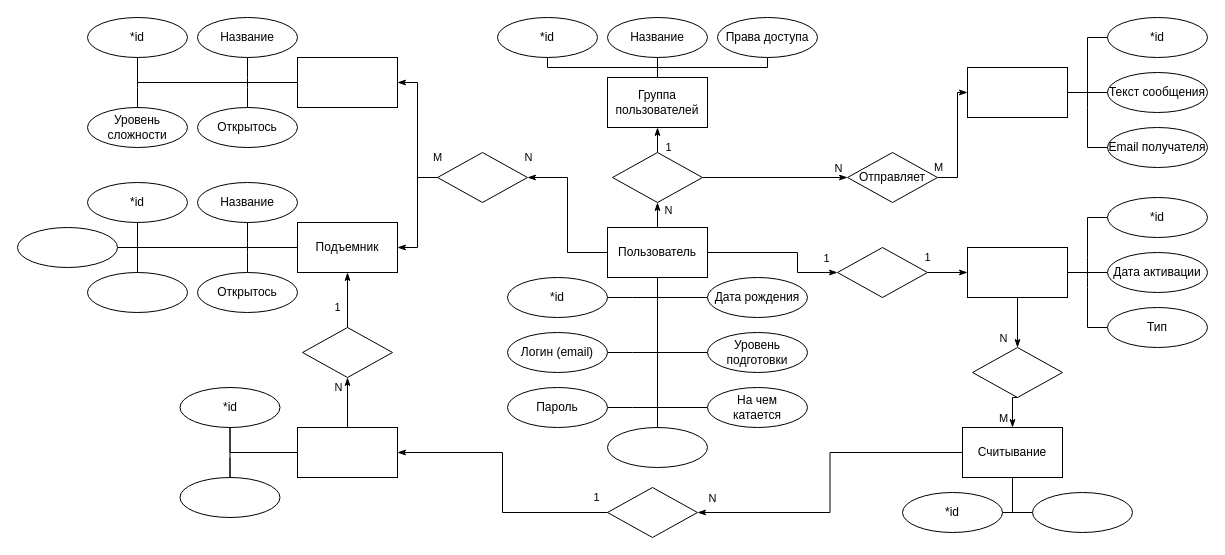
The diagram is 1225 pixels wide and 555 high, and some of its shapes have lost their labels. Here are the shapes that lost their labels. From the top down, the centre of each, then its label:
the point at 347,82: Трасса
the point at 1017,92: Сообщение о происшествии
the point at 482,177: Выбирает
the point at 657,177: Принаддежит
the point at 67,247: Количество мест
the point at 137,292: Время подъема
the point at 882,272: Владеет
the point at 1017,272: Проездная карта
the point at 347,352: Принадлежит
the point at 1017,372: Проходит
the point at 347,452: Турникет
the point at 657,447: ФИО
the point at 229,497: Открытость
the point at 652,512: На
the point at 1082,512: Время
